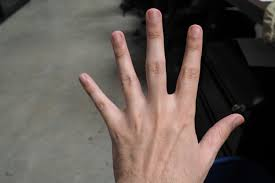hand: (67, 5, 246, 179)
